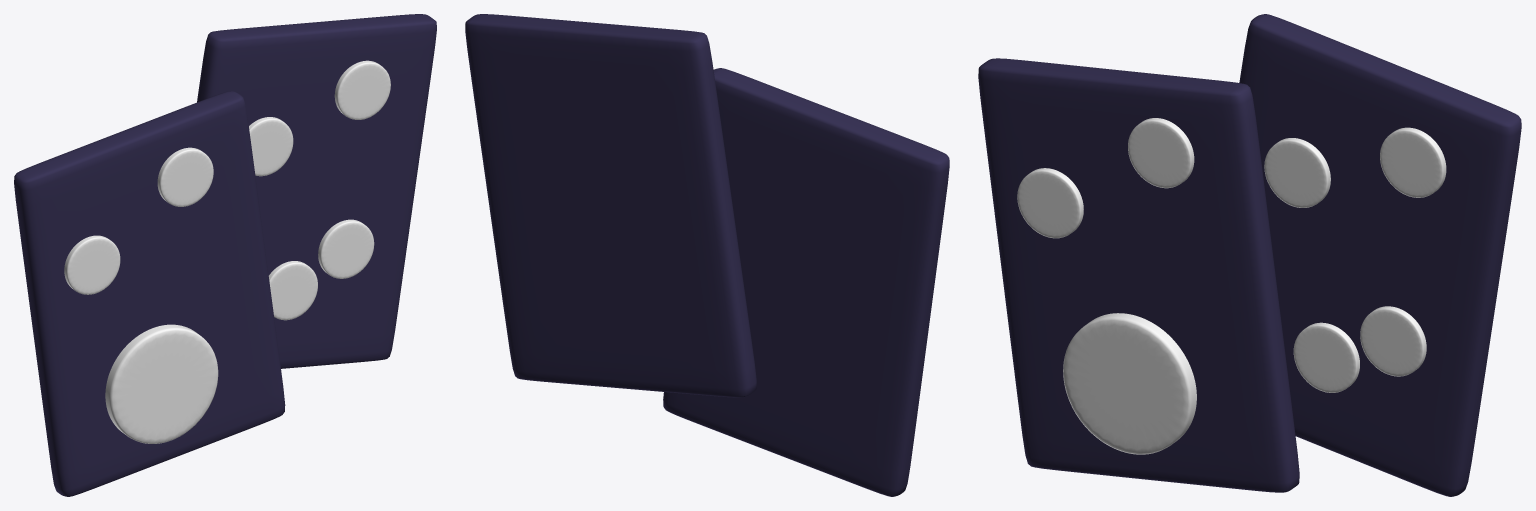
Rendered from card.glb.
3 renders of one model, left to right at view 1: azimuth 30°, elevation 25°; view 2: azimuth 150°, elevation 25°; view 3: azimuth 330°, elevation 25°, orthographic. The views are drawn at different scales.
Parts seen in each view (by area): view 1: card1, card2; view 2: card2, card1; view 3: card1, card2.
Part boxes in pixels (x1,y1,x2,y2): card1: [14, 91, 285, 496]; card2: [197, 14, 436, 368]; card2: [465, 14, 756, 397]; card1: [663, 68, 949, 496]; card1: [978, 58, 1299, 492]; card2: [1239, 14, 1521, 496].
Size of the model in its own units: 0.5942 by 0.5279 by 0.0917.
